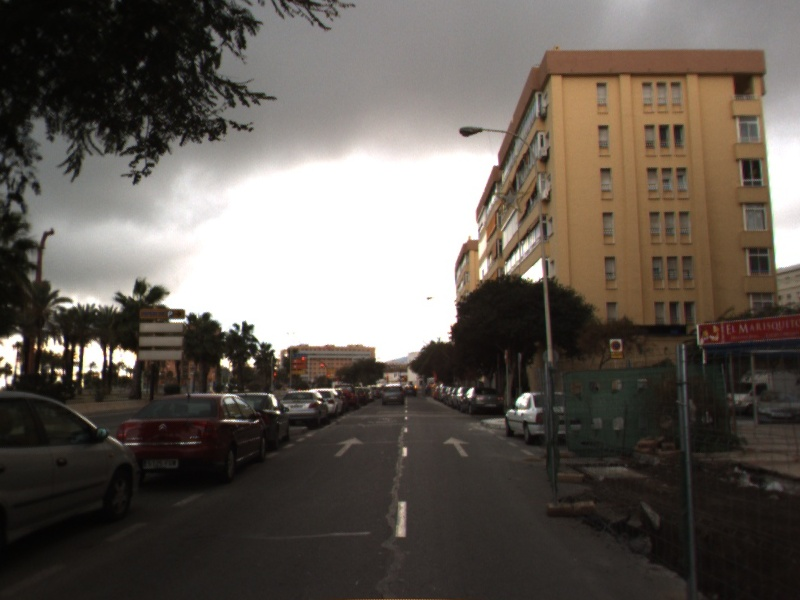STRAIGHT: (332, 435, 366, 458), (442, 436, 472, 458)
